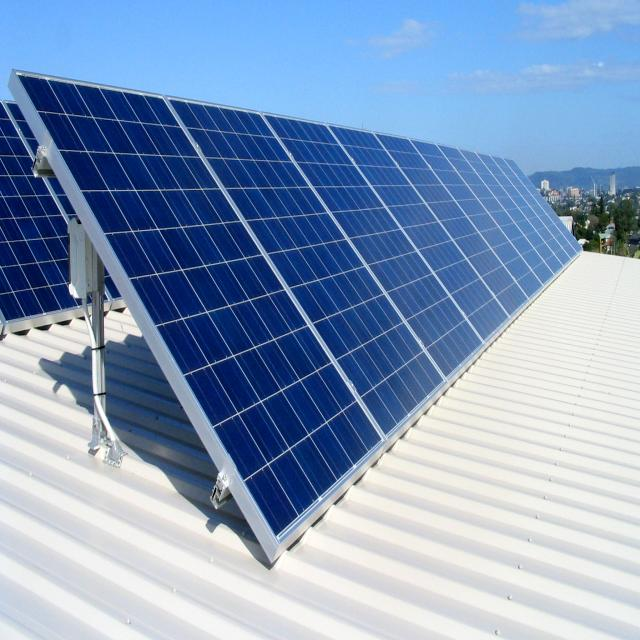crack: (275, 164, 369, 271), (216, 130, 304, 214), (319, 258, 394, 356), (436, 188, 534, 262), (429, 181, 494, 286), (260, 428, 324, 531), (234, 466, 304, 546), (395, 202, 458, 286), (148, 203, 208, 287), (294, 421, 345, 519), (74, 181, 138, 250), (240, 284, 300, 354), (128, 214, 182, 288), (183, 302, 236, 376), (322, 404, 376, 476), (178, 208, 228, 282), (233, 339, 283, 411), (202, 214, 251, 283), (223, 255, 274, 318), (244, 399, 290, 468), (159, 266, 208, 326), (116, 180, 162, 243), (214, 292, 254, 364), (256, 340, 300, 402), (140, 178, 180, 242), (274, 330, 318, 386), (92, 110, 136, 162)
